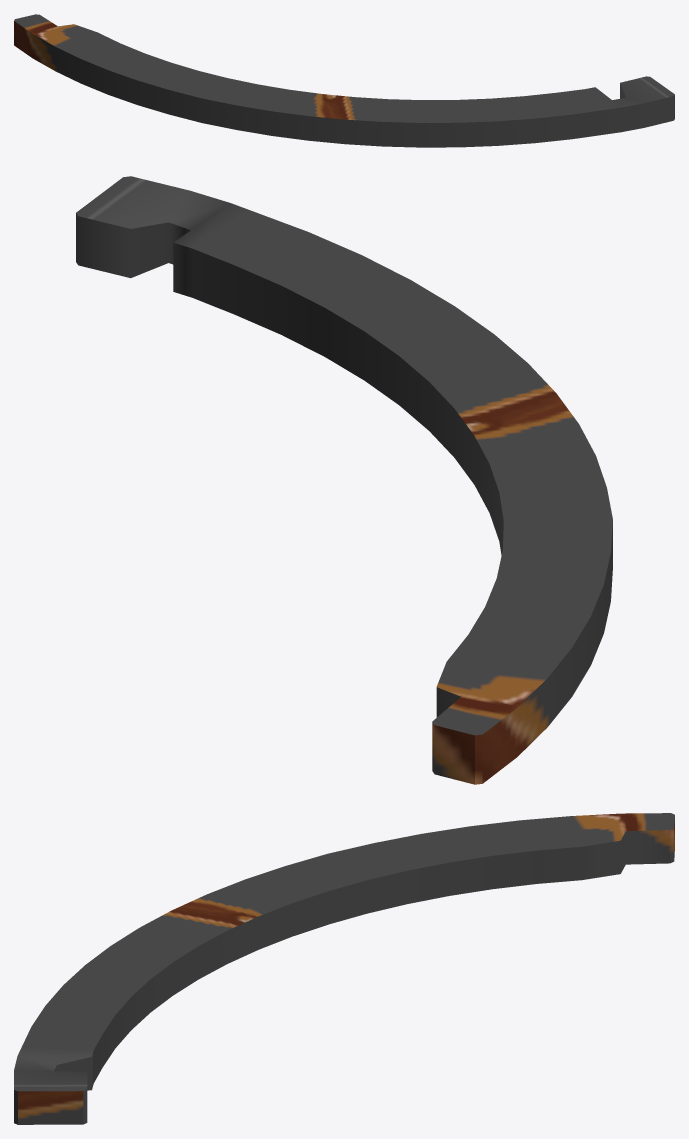
File: curved_03.fbx
The picture shows the model from 3 angles, top to bottom: view 1: azimuth 30°, elevation 25°; view 2: azimuth 150°, elevation 25°; view 3: azimuth 270°, elevation 25°; orthographic projection. The views are drawn at different scales.
Visible parts, largest first — view 1: curved_03; view 2: curved_03; view 3: curved_03.
Boxes of the visible parts, x1,y1,x2,y2 form: curved_03: [14, 14, 674, 147]; curved_03: [76, 176, 612, 784]; curved_03: [14, 813, 674, 1124].
Size of what is drawn, in the model's own units: 8.97 by 0.5023 by 9.
